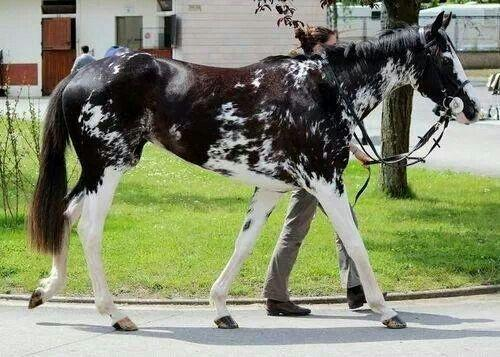horse: (26, 10, 481, 331)
